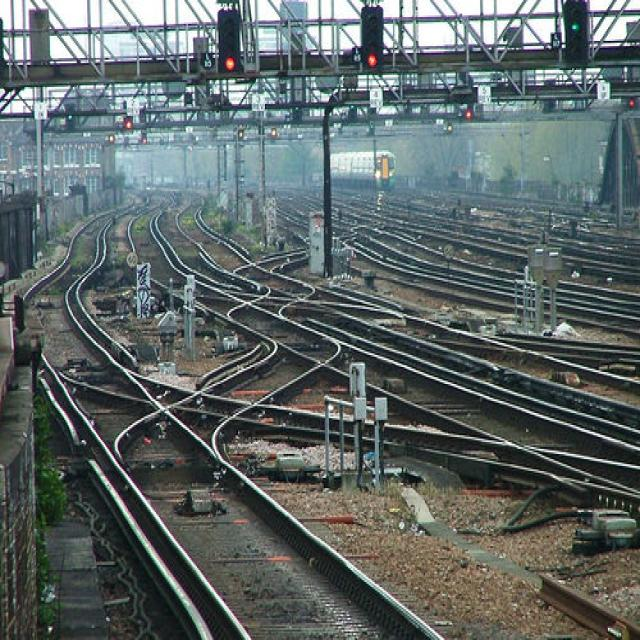train: (331, 149, 397, 189)
